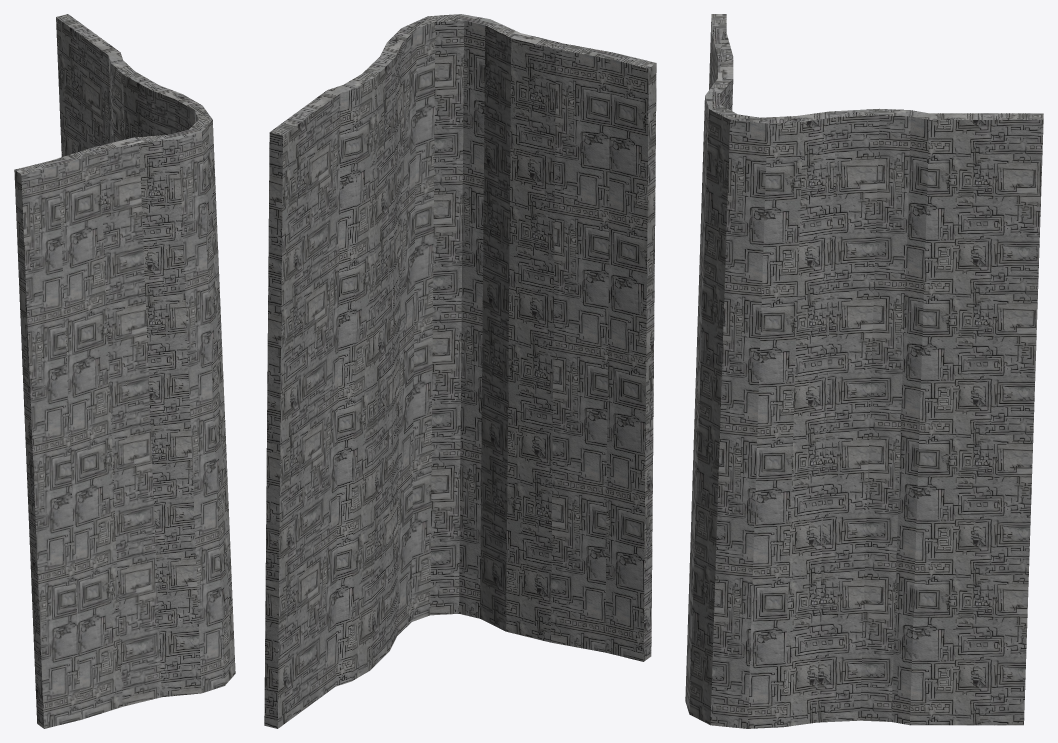
File: Area2_StickyLedge1.fbx
3 renders of one model, left to right at view 1: azimuth 30°, elevation 25°; view 2: azimuth 150°, elevation 25°; view 3: azimuth 270°, elevation 25°, orthographic. The views are drawn at different scales.
Visible parts, largest first — view 1: Area2_StickyLedge1; view 2: Area2_StickyLedge1; view 3: Area2_StickyLedge1.
Boxes of the visible parts, box(x1,y1,x2,y2) form: Area2_StickyLedge1: box(14, 14, 235, 728); Area2_StickyLedge1: box(264, 14, 656, 728); Area2_StickyLedge1: box(685, 14, 1043, 728).
Bounding box in the file's own units: 904 × 2156 × 1171.
1 material, 1 textured.
